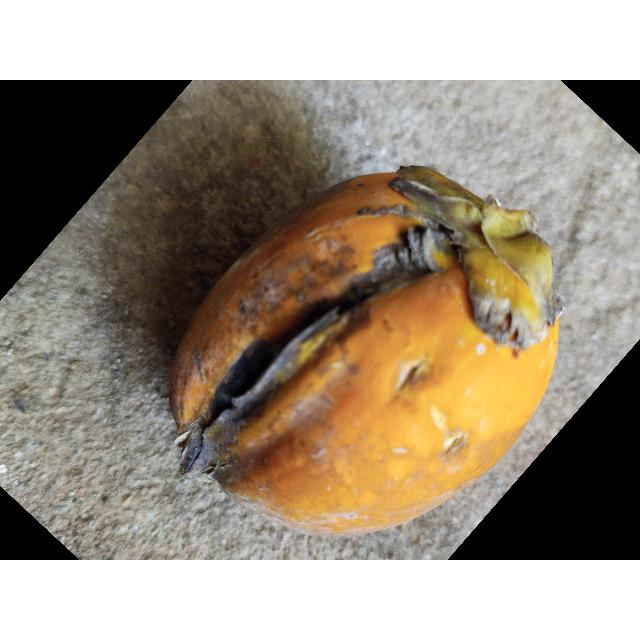damaged: (164, 164, 562, 540)
